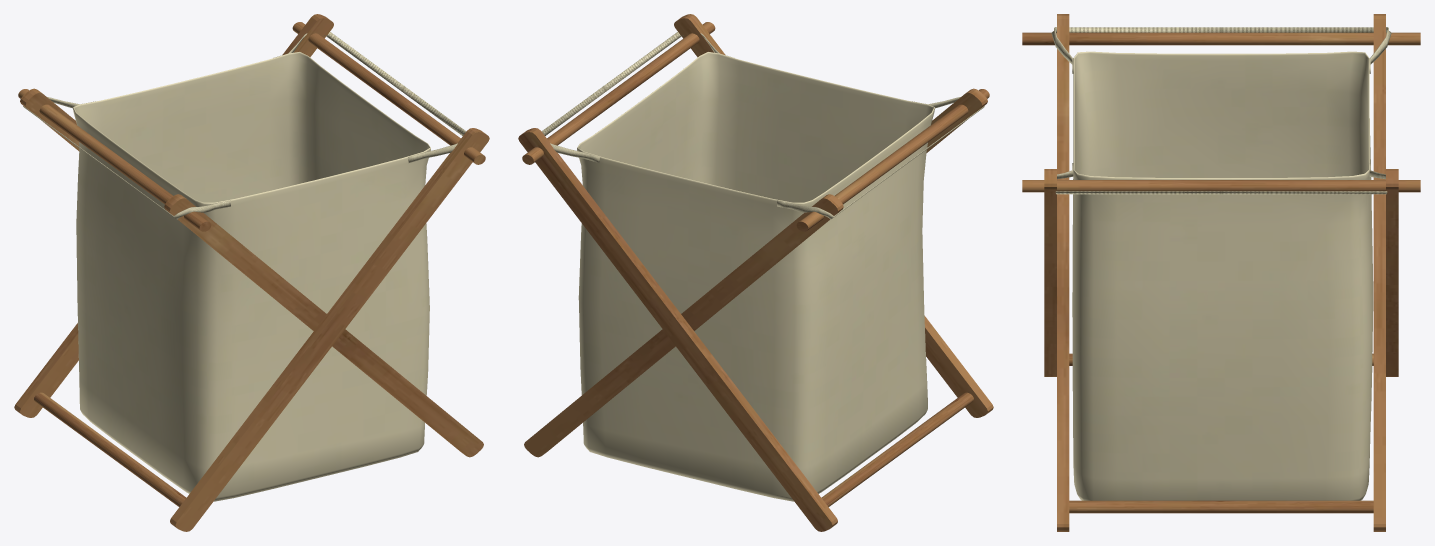
Rendered from sh-scopia-clothes-basket.glb.
3 renders of one model, left to right at view 1: azimuth 30°, elevation 25°; view 2: azimuth 150°, elevation 25°; view 3: azimuth 270°, elevation 25°, orthographic. The views are drawn at different scales.
Visible parts, largest first — view 1: Cube, Cube.001, Cube.002_Cube.003; view 2: Cube, Cube.001, Cube.002_Cube.003; view 3: Cube, Cube.001, Cube.002_Cube.003.
Part boxes in pixels (<box>): Cube: <box>73,52,430,501</box>; Cube.001: <box>14,14,489,531</box>; Cube.002_Cube.003: <box>23,32,466,219</box>; Cube: <box>577,52,934,501</box>; Cube.001: <box>518,14,993,531</box>; Cube.002_Cube.003: <box>541,32,984,219</box>; Cube: <box>1072,51,1373,500</box>; Cube.001: <box>1022,14,1420,531</box>; Cube.002_Cube.003: <box>1051,27,1391,194</box>.
Bounding box in the file's own units: 1 × 1 × 1.
3 materials, 3 textured.
